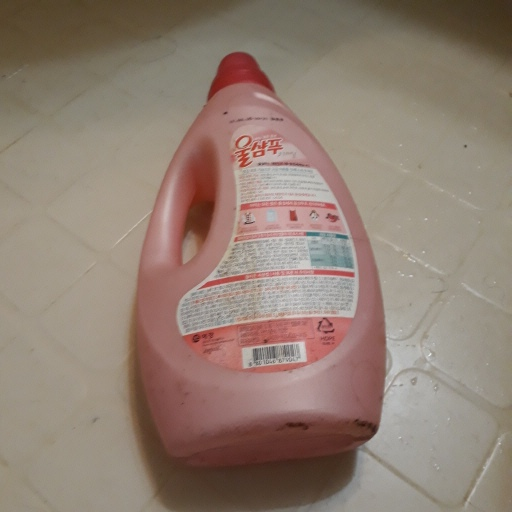Plastic_1: (133, 47, 386, 464)
